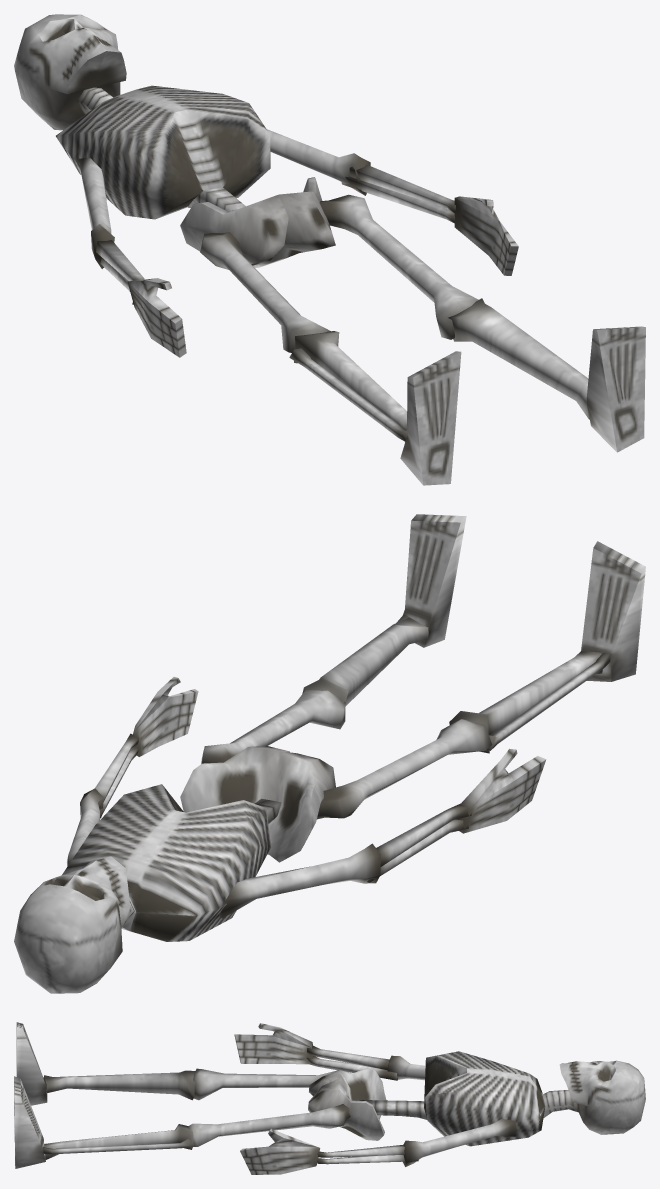
File: WorldItem_Skele_Body.fbx
The picture shows the model from 3 angles, top to bottom: view 1: azimuth 30°, elevation 25°; view 2: azimuth 150°, elevation 25°; view 3: azimuth 270°, elevation 25°; orthographic projection. The views are drawn at different scales.
Parts seen in each view (by area): view 1: Male_Skeleton; view 2: Male_Skeleton; view 3: Male_Skeleton.
Part boxes in pixels (x1,y1,x2,y2): Male_Skeleton: [14, 14, 645, 485]; Male_Skeleton: [14, 514, 645, 993]; Male_Skeleton: [14, 1022, 645, 1174].
Size of the model in its own units: 0.4009 by 0.1486 by 0.9597.
